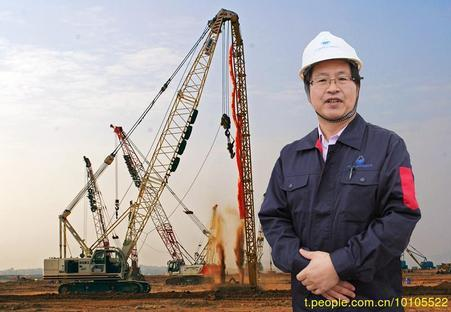helmet: (290, 21, 370, 131)
